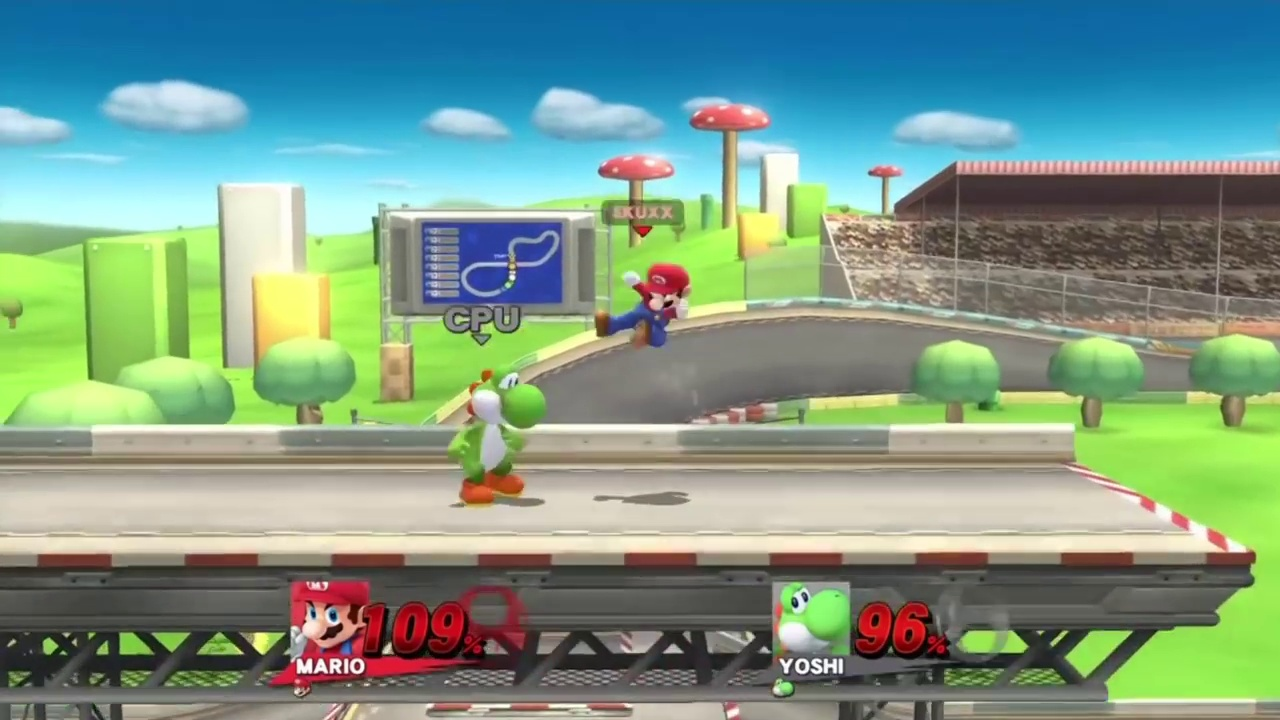Mario: (595, 264, 688, 351)
